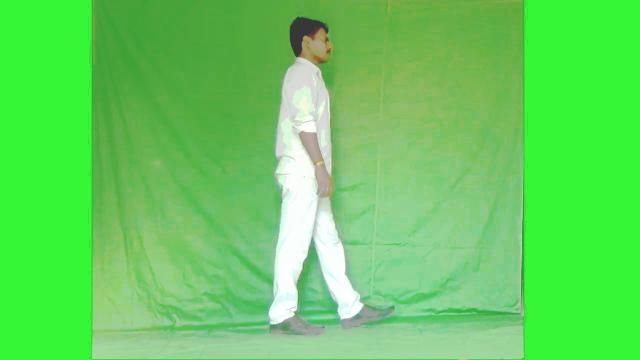berjalan: (266, 6, 396, 334)
